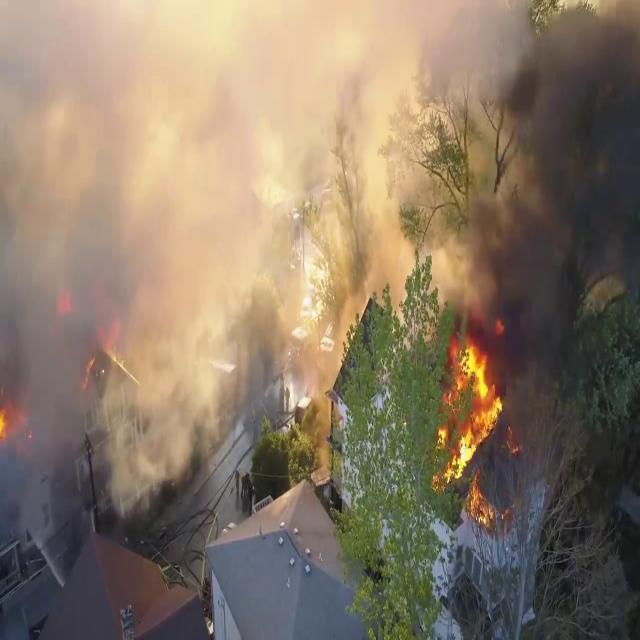Fire: (436, 336, 508, 494)
Smoke: (0, 1, 373, 511), (428, 0, 640, 326)
